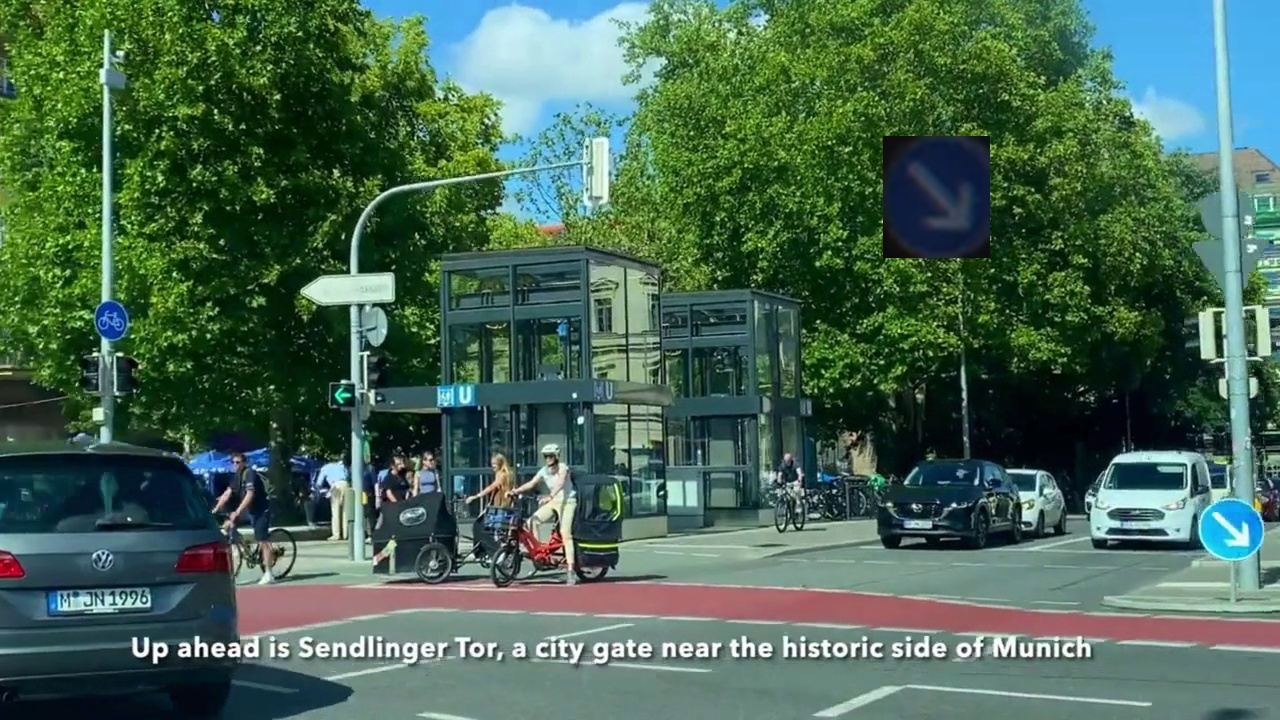Keep right: (883, 136, 990, 258)
